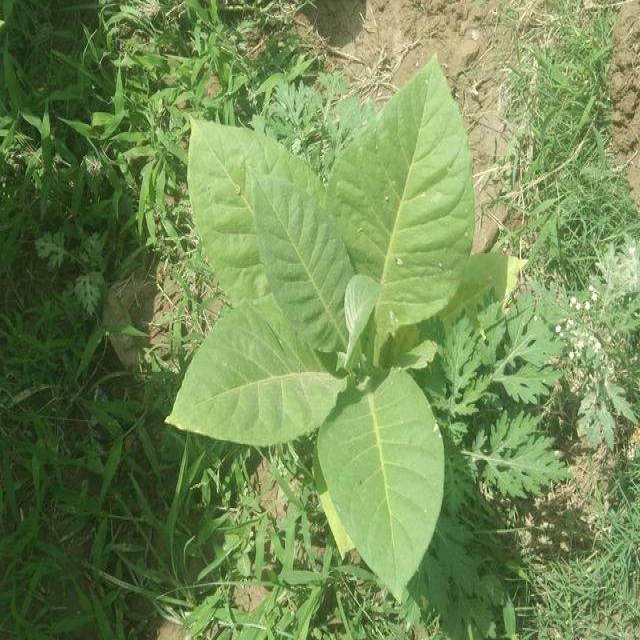crop: (181, 71, 484, 578)
